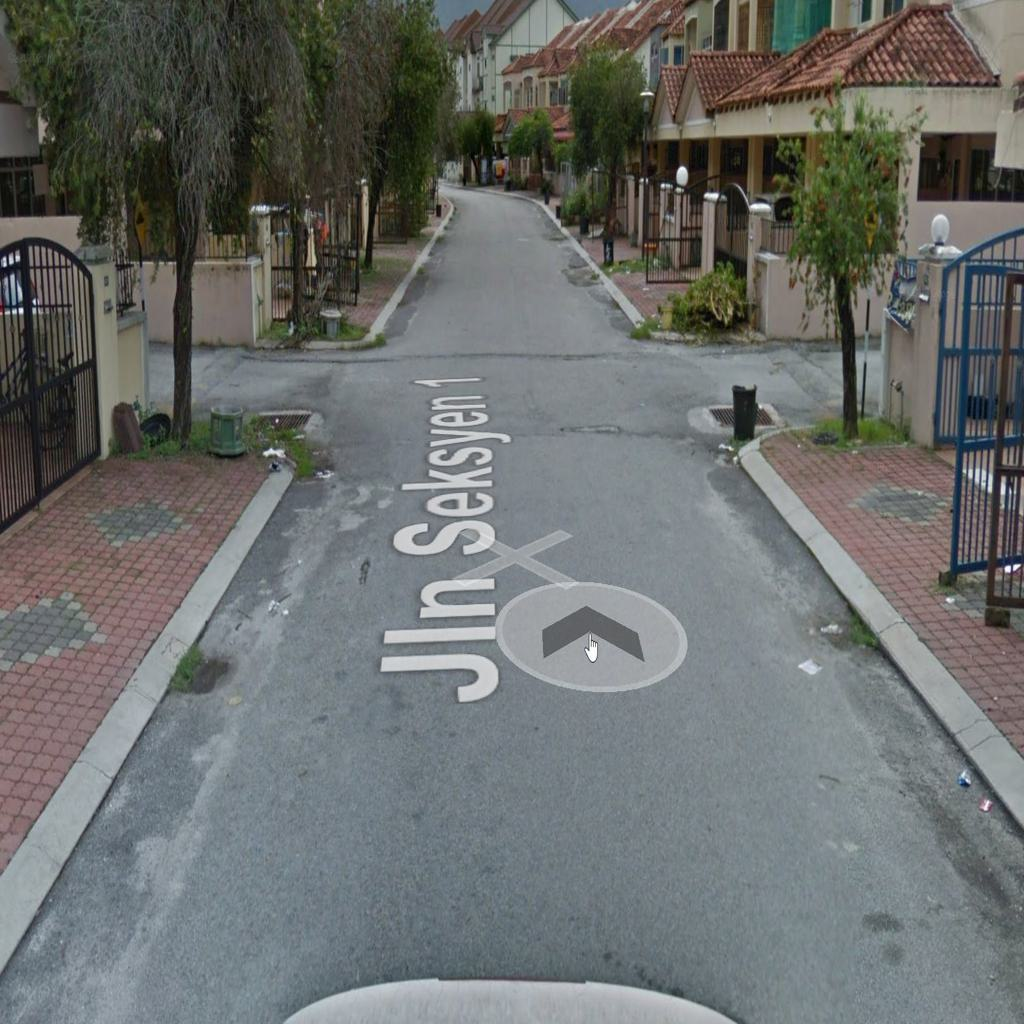Junction: (159, 319, 414, 483), (637, 311, 880, 474)
